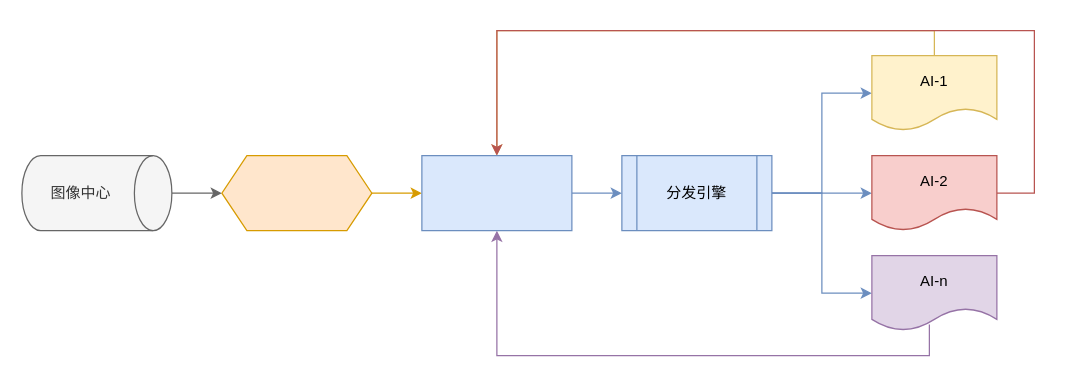
Some shapes in this 1066 by 388 pixel diagram are drawn without their labels. Here are the shapes that lost their labels. From the top down, the centre of each, then its label:
At (x=296, y=192): "AI影像转发平台".
At (x=496, y=192): "澳丁AI中心".
